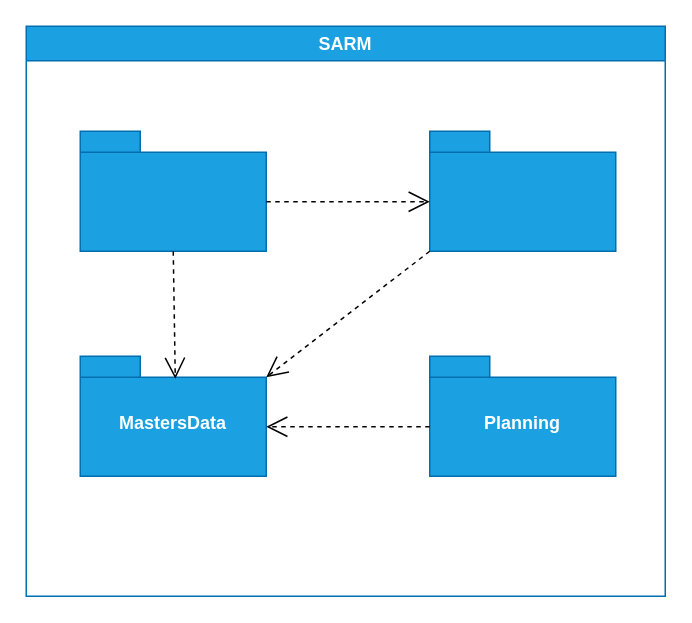
This 692x623 diagram has some shape labels left out. The shapes that lost their labels are listed below. From the top down, each one's box as (x1, y1, x2, y2) in pixels, then its label:
(79, 130, 266, 251): SPA
(428, 130, 616, 251): 3D Visualization
